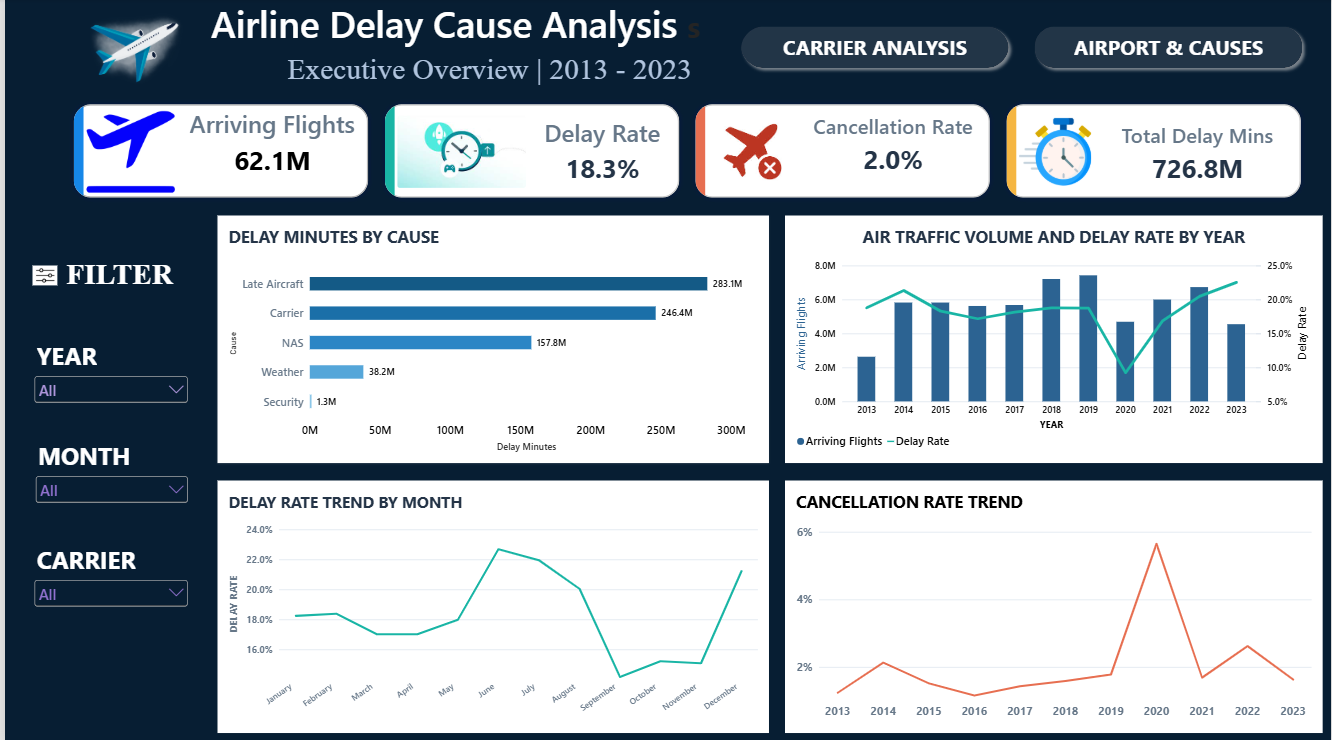

This screenshot's page, from the dashboard's own definition file:
{"tool":"powerbi","page":{"name":"Executive Overview","canvas":[1920,1080],"ordinal":0},"visuals":[{"type":"image","box":[0,0,463.3,143],"z":0},{"type":"textbox","box":[287.7,0,738.3,77.8],"z":1000},{"type":"textbox","box":[409,77.8,667.8,65.1],"z":2000},{"type":"actionButton","box":[1056.8,32.6,405.4,77.8],"z":3000},{"type":"actionButton","box":[1482.1,32.6,405,77.8],"z":4000},{"type":"cardVisual","fields":{"Data":["Airline_Delay_Cause.Arriving Flights","Airline_Delay_Cause.Delay Rate","Airline_Delay_Cause.Cancellation Rate","Airline_Delay_Cause.Total Delay Minutes"]},"box":[88.7,143,1798.8,157.4],"z":5000},{"type":"lineClusteredColumnComboChart","title":"AIR TRAFFIC VOLUME AND DELAY RATE BY YEAR","fields":{"Category":["DateTable.Year"],"Y":["Airline_Delay_Cause.Arriving Flights"],"Y2":["Airline_Delay_Cause.Delay Rate"]},"box":[1129.2,314.9,778.2,358.3],"z":6000},{"type":"lineChart","title":"DELAY RATE TREND BY MONTH ","fields":{"Category":["DateTable.Month Name"],"Y":["Airline_Delay_Cause.Delay Rate"]},"box":[307.6,698.5,798.1,365.6],"z":7000},{"type":"clusteredBarChart","title":"DELAY MINUTES BY CAUSE","fields":{"Category":["Delay Cause.Cause"],"Y":["Airline_Delay_Cause.Selected Delay Minutes"]},"box":[307.6,314.9,798.1,358.3],"z":8000},{"type":"lineChart","title":"CANCELLATION RATE TREND","fields":{"Category":["DateTable.Year"],"Y":["Airline_Delay_Cause.Cancellation Rate"]},"box":[1129.2,698.5,778.2,365.6],"z":9000},{"type":"textbox","box":[88.7,374.6,186.4,57.9],"z":10000},{"type":"image","box":[39.8,387.3,36.2,29],"z":11000},{"type":"slicer","fields":{"Values":["DateTable.Year"]},"box":[38.9,494,231.3,112.9],"z":12000},{"type":"slicer","fields":{"Values":["DateTable.Month Name"]},"box":[40.7,638.3,229.4,105.5],"z":13000},{"type":"slicer","fields":{"Values":["Airline_Delay_Cause.carrier_name_display"]},"box":[38.9,788.1,231.3,111],"z":14000}]}

Visuals, with their boxes in screenshot pixels (x1, y1, x2, y2), scaled from the page's 1920x1080 canvas onto the 1332x740 screenshot:
image: bbox=[0, 0, 321, 98]
textbox: bbox=[200, 0, 712, 53]
textbox: bbox=[284, 53, 747, 98]
actionButton: bbox=[733, 22, 1014, 76]
actionButton: bbox=[1028, 22, 1309, 76]
cardVisual - Airline_Delay_Cause.Arriving Flights x Airline_Delay_Cause.Delay Rate: bbox=[62, 98, 1309, 206]
"AIR TRAFFIC VOLUME AND DELAY RATE BY YEAR" lineClusteredColumnComboChart: bbox=[783, 216, 1323, 461]
"DELAY RATE TREND BY MONTH " lineChart: bbox=[213, 479, 767, 729]
"DELAY MINUTES BY CAUSE" clusteredBarChart: bbox=[213, 216, 767, 461]
"CANCELLATION RATE TREND" lineChart: bbox=[783, 479, 1323, 729]
textbox: bbox=[62, 257, 191, 296]
image: bbox=[28, 265, 53, 285]
slicer - DateTable.Year: bbox=[27, 338, 187, 416]
slicer - DateTable.Month Name: bbox=[28, 437, 187, 510]
slicer - Airline_Delay_Cause.carrier_name_display: bbox=[27, 540, 187, 616]
